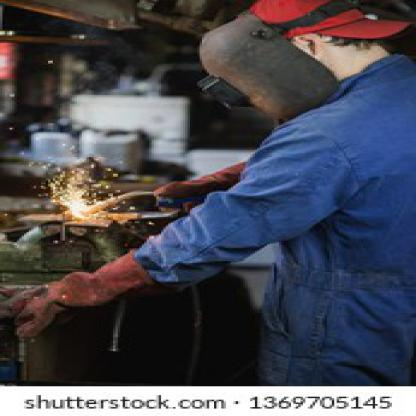with_gloves: (3, 245, 186, 340), (152, 160, 248, 212)
